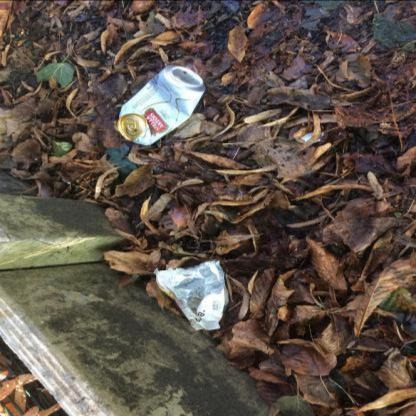Can: (117, 65, 205, 145)
Plastic bag - wrapper: (153, 261, 228, 330)
Pop tab: (126, 118, 136, 131)
